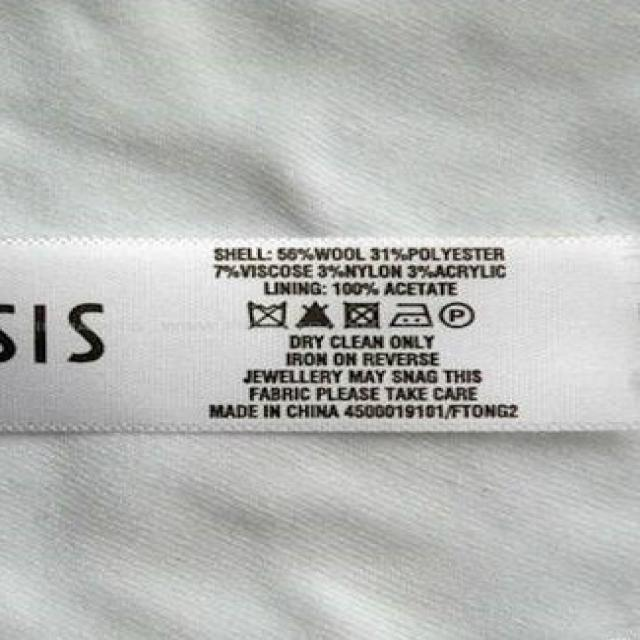DN_bleach: (296, 298, 337, 333)
DN_tumble_dry: (342, 298, 384, 333)
DN_wash: (247, 299, 291, 332)
dry_clean_any_solvent_except_trichloroethylene: (439, 302, 479, 329)
iron_medium: (388, 301, 436, 329)
